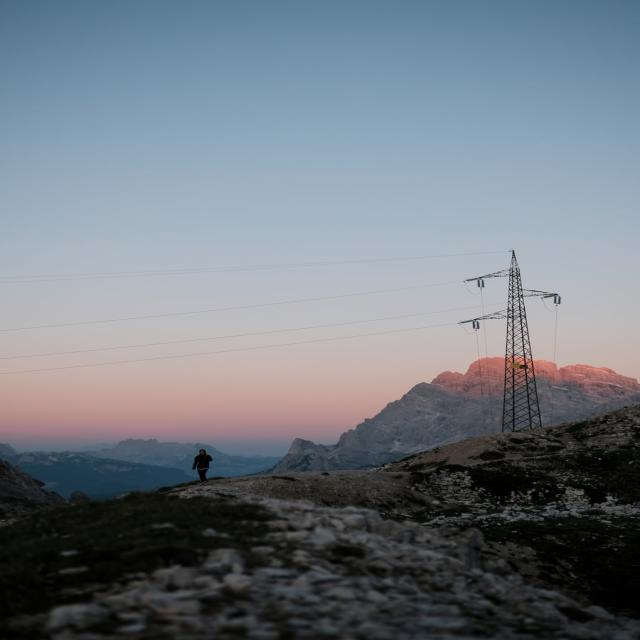transmission tower: (437, 231, 607, 412)
